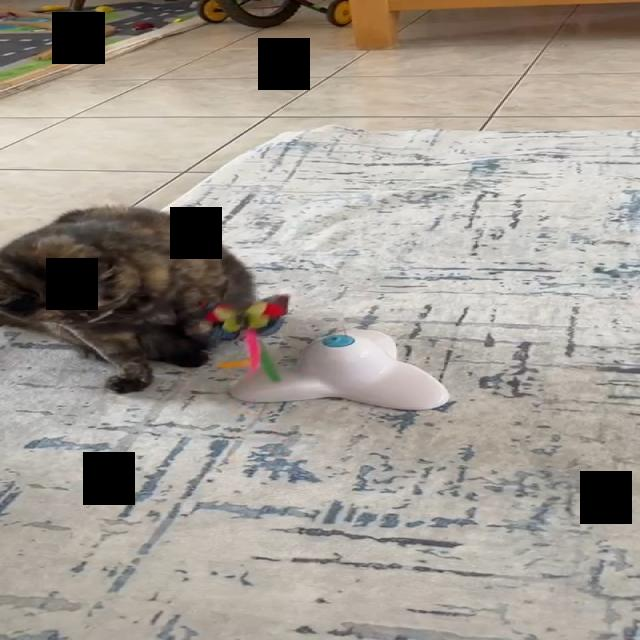authorized: (0, 204, 256, 393)
